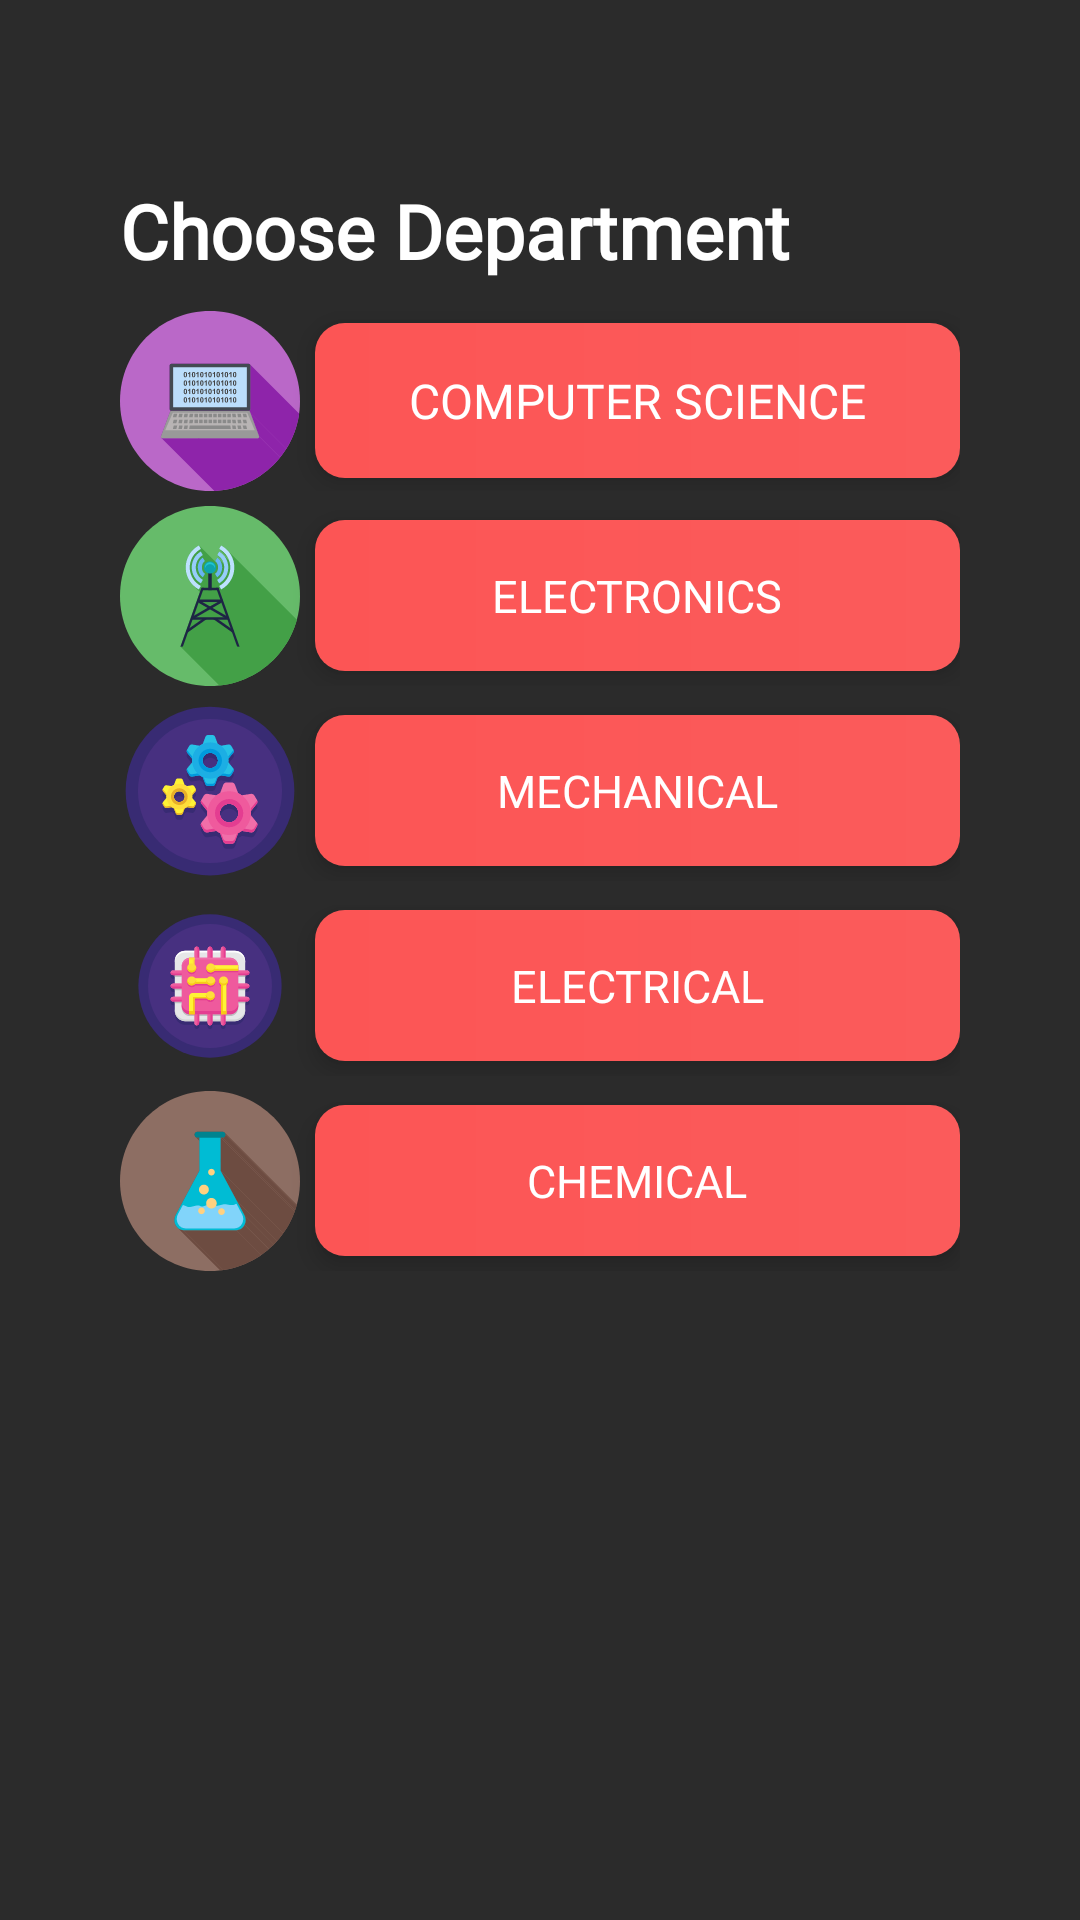

Point at icon controls on the screen. Image size 1080 × 1920, points as [x,y].
chemichal dep: [210,1181]
computer dep: [210,401]
electronic dep: [210,596]
